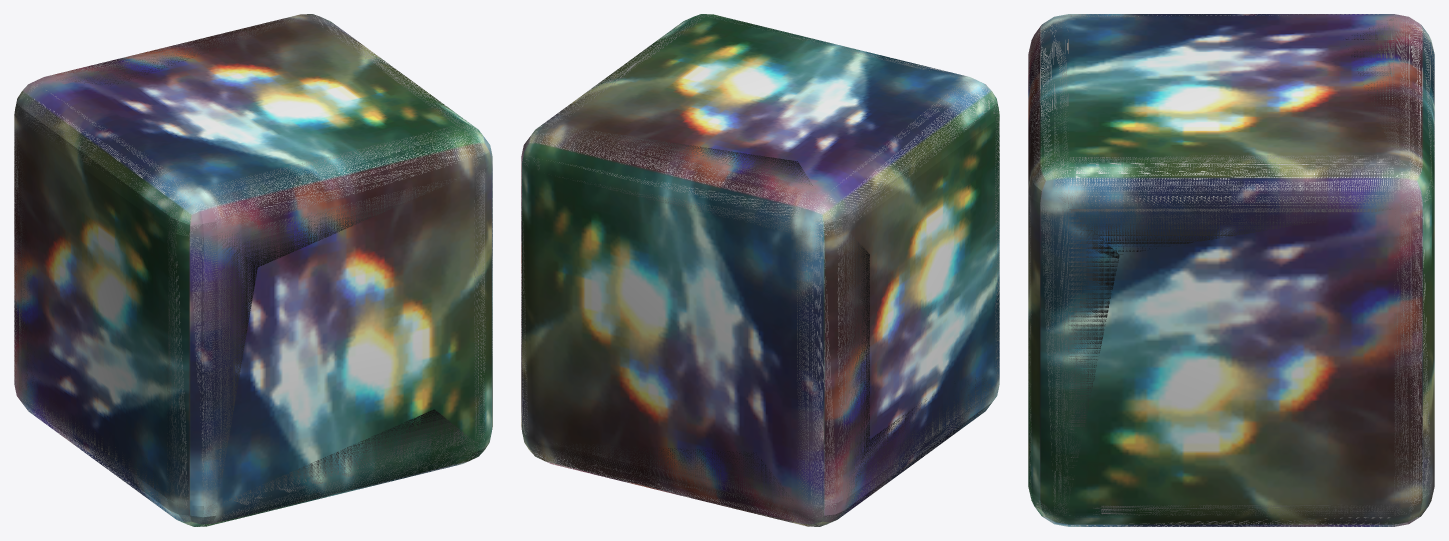
File: item box.obj
The picture shows the model from 3 angles, left to right: view 1: azimuth 30°, elevation 25°; view 2: azimuth 150°, elevation 25°; view 3: azimuth 270°, elevation 25°; orthographic projection. The views are drawn at different scales.
Visible parts, largest first — view 1: ItemBox_1__M_ItemBox, ItemBoxRef__M_ItemBoxRef; view 2: ItemBox_1__M_ItemBox, ItemBoxRef__M_ItemBoxRef; view 3: ItemBox_1__M_ItemBox, ItemBoxRef__M_ItemBoxRef.
Part boxes in pixels (x1,y1,x2,y2): ItemBox_1__M_ItemBox: (14,14,492,526); ItemBoxRef__M_ItemBoxRef: (14,14,492,526); ItemBox_1__M_ItemBox: (521,14,999,526); ItemBoxRef__M_ItemBoxRef: (521,14,999,526); ItemBox_1__M_ItemBox: (1028,14,1434,526); ItemBoxRef__M_ItemBoxRef: (1028,14,1434,526).
Bounding box in the file's own units: 20 × 20 × 20.
3 materials, 3 textured.
